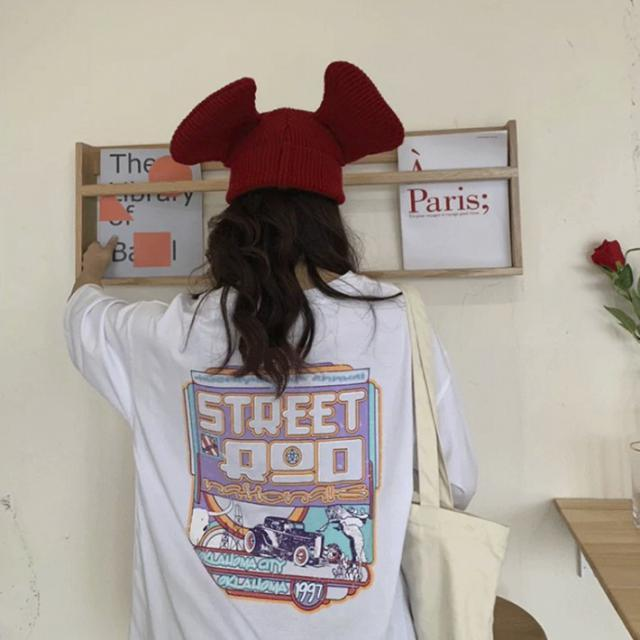Shirt: (59, 271, 477, 639)
